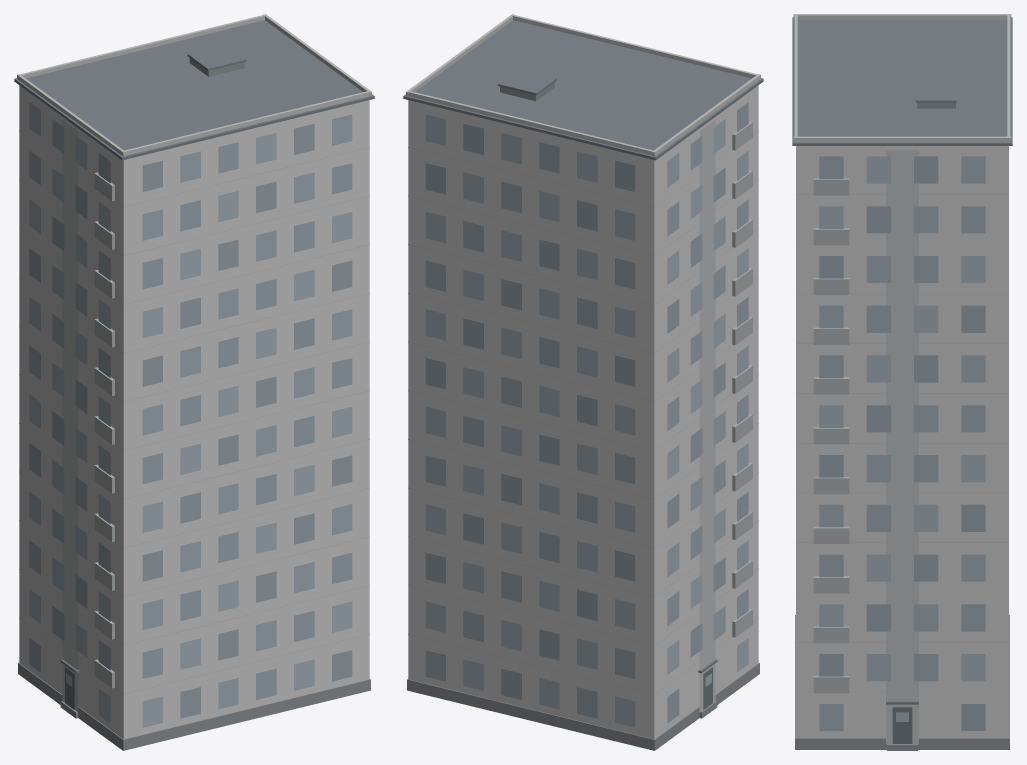
The model's file is tower_1.glb.
The picture shows the model from 3 angles, left to right: view 1: azimuth 30°, elevation 25°; view 2: azimuth 150°, elevation 25°; view 3: azimuth 270°, elevation 25°; orthographic projection. The views are drawn at different scales.
Visible parts, largest first — view 1: tower_1; view 2: tower_1; view 3: tower_1.
Boxes of the visible parts, bbox=[...] form: tower_1: bbox=[14, 14, 374, 750]; tower_1: bbox=[403, 14, 763, 750]; tower_1: bbox=[792, 14, 1012, 750].
Bounding box in the file's own units: 15.4 × 35.17 × 11.4.
